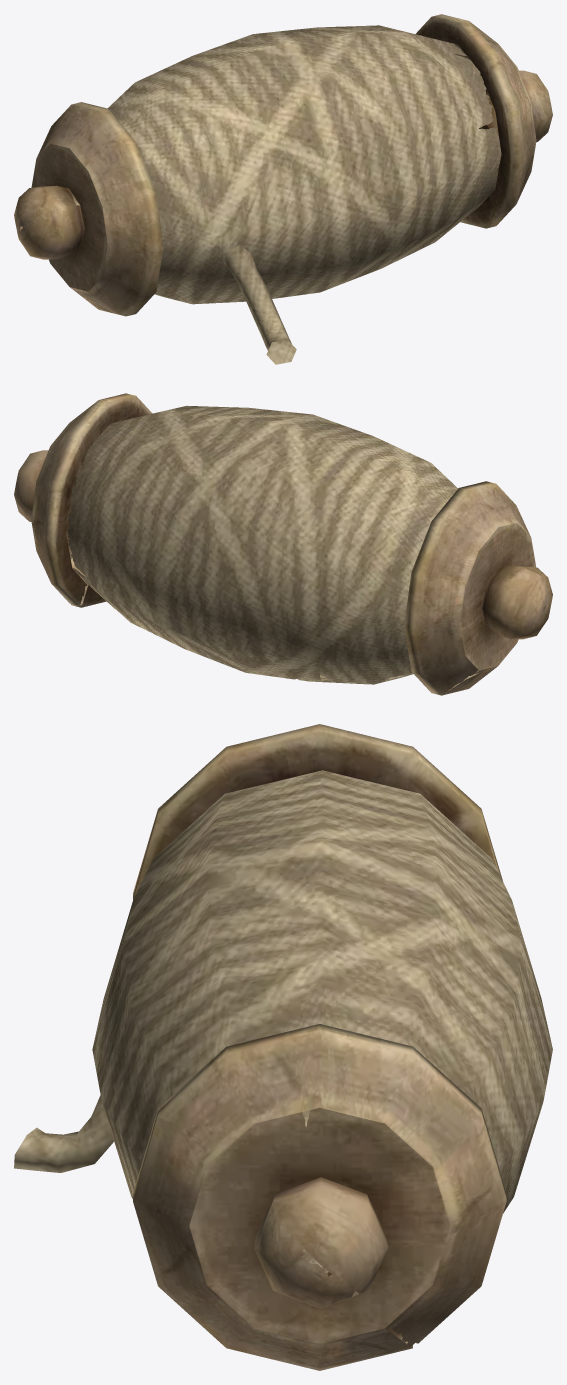
3 renders of one model, top to bottom at view 1: azimuth 30°, elevation 25°; view 2: azimuth 150°, elevation 25°; view 3: azimuth 270°, elevation 25°, orthographic. The views are drawn at different scales.
Visible parts, largest first — view 1: SM_Desert_Thread_01_LOD0; view 2: SM_Desert_Thread_01_LOD0; view 3: SM_Desert_Thread_01_LOD0.
Part boxes in pixels (box(x1,y1,x2,y2)): SM_Desert_Thread_01_LOD0: box(14, 14, 552, 364); SM_Desert_Thread_01_LOD0: box(14, 393, 552, 695); SM_Desert_Thread_01_LOD0: box(14, 724, 552, 1370).
Size of the model in its own units: 0.4205 by 0.1851 by 0.2197.
1 material, 1 textured.
